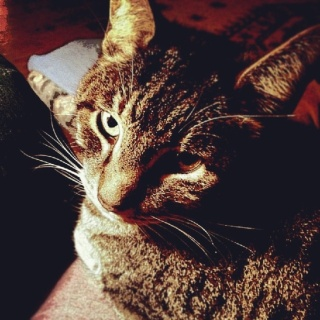Cat: (17, 0, 319, 319)
